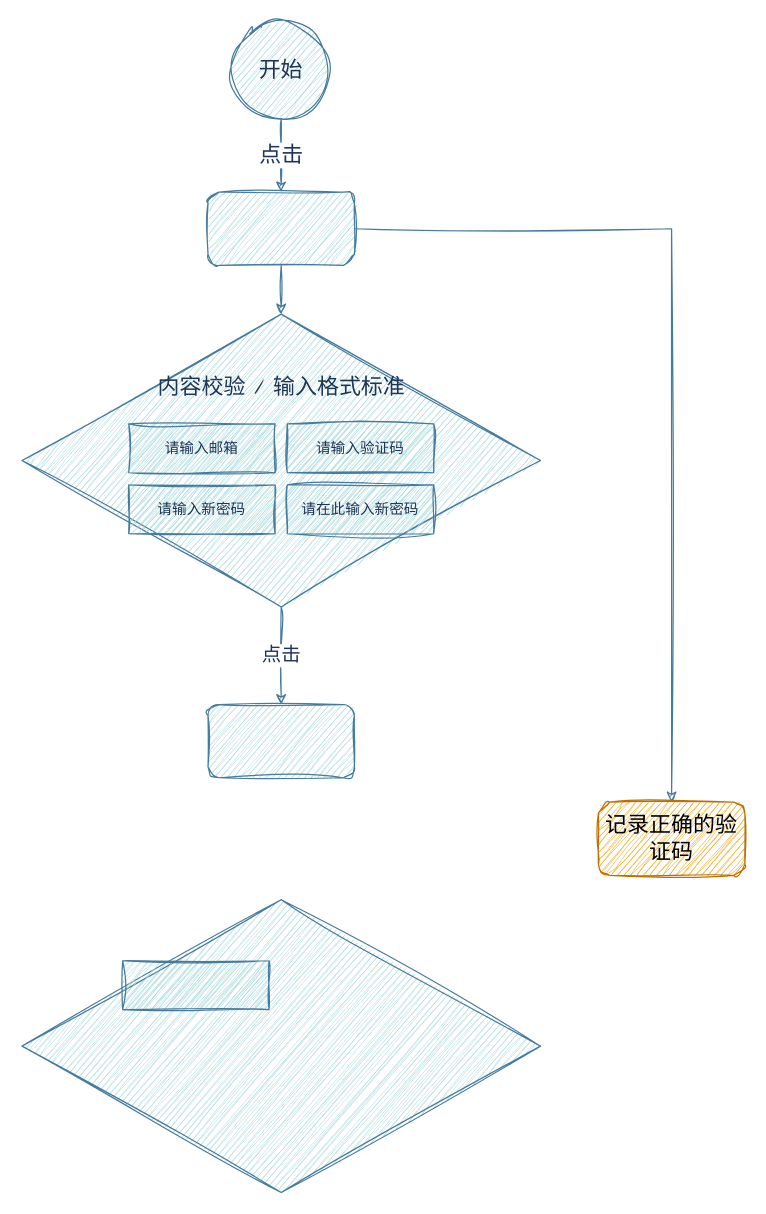
This 766x1214 diagram has some shape labels left out. The shapes that lost their labels are listed below. From the top down, each one's box as (x1, y1, x2, y2) in pixels, then its label:
(207, 191, 354, 265): 获取验证码
(207, 703, 354, 778): 确定
(121, 960, 269, 1010): 校验密码
